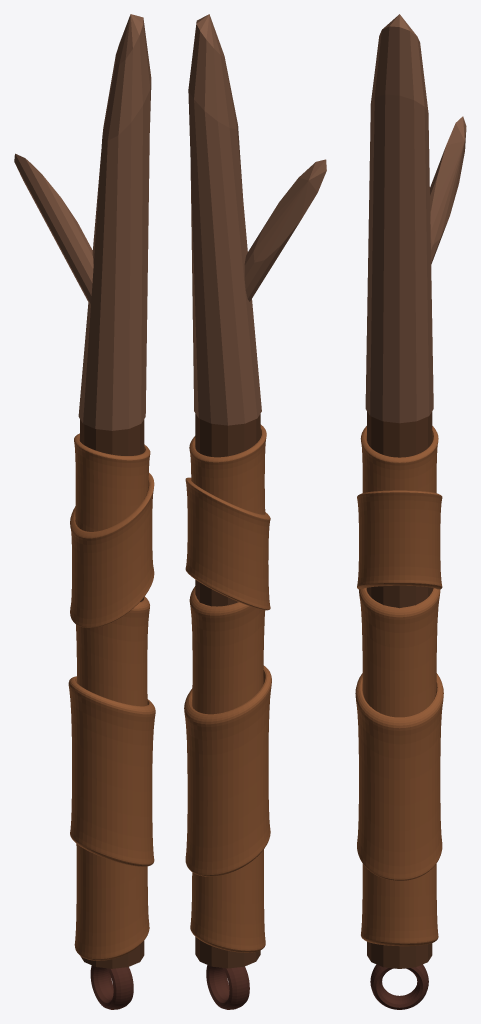
Rendered from Wand 361.glb.
The picture shows the model from 3 angles, left to right: view 1: azimuth 30°, elevation 25°; view 2: azimuth 210°, elevation 25°; view 3: azimuth 270°, elevation 25°; orthographic projection.
Parts seen in each view (by area): view 1: GeneratedWand; view 2: GeneratedWand; view 3: GeneratedWand.
Part boxes in pixels (x1,y1,x2,y2): GeneratedWand: (14,14,155,1009); GeneratedWand: (184,14,326,1009); GeneratedWand: (355,14,466,1009).
Size of the model in its own units: 0.0578 by 0.5113 by 0.0513.
